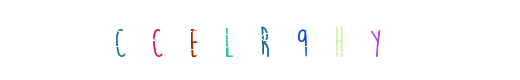9: (257, 0, 337, 80)
C: (123, 0, 203, 80), (152, 0, 232, 80)
E: (168, 0, 248, 80)
H: (263, 0, 343, 80)
L: (196, 0, 276, 80)
R: (220, 0, 300, 80)
Y: (308, 0, 388, 80)
